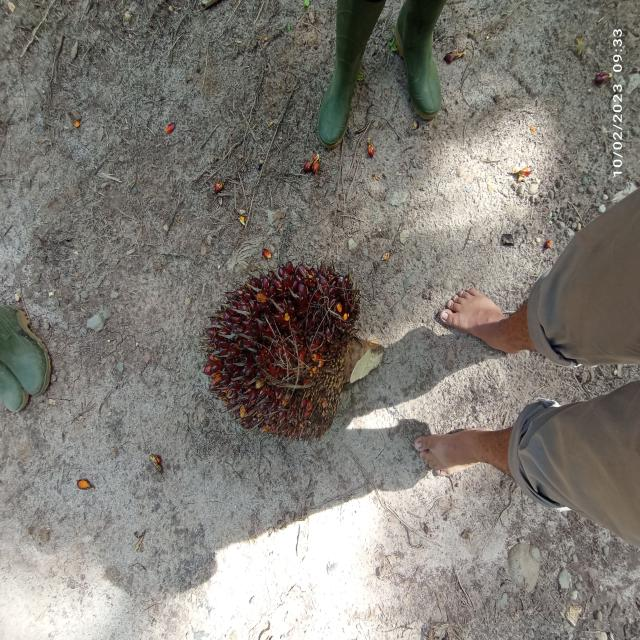fraksi 1: (175, 213, 382, 479)
